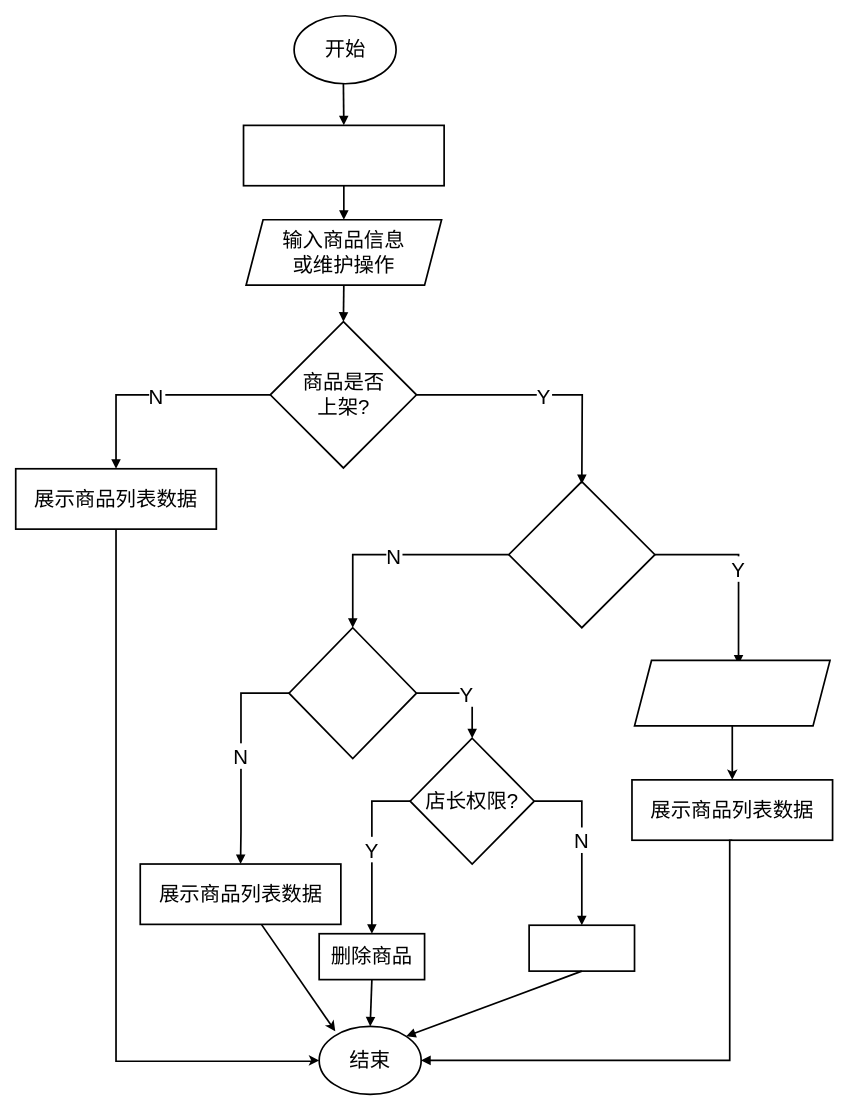
This 847x1109 diagram has some shape labels left out. Each missing label, with the box of its shape:
删除商品?: (288, 626, 417, 759)
拒绝删除: (528, 924, 635, 972)
是否修改 商品材料？: (507, 480, 655, 628)
输入修改商品 配置材料关联: (633, 659, 830, 726)
进入商品管理并查询列表: (242, 124, 445, 186)
